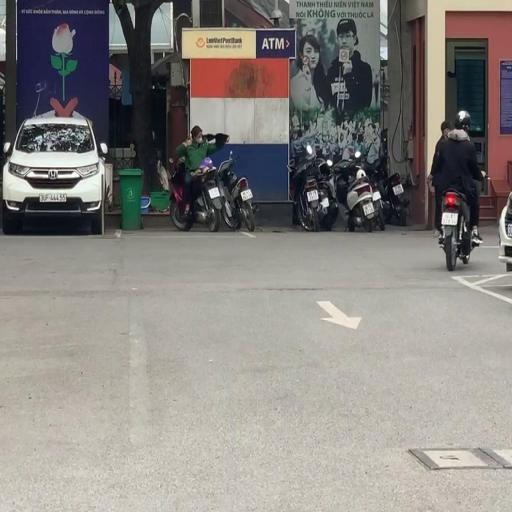bike: (428, 108, 488, 273)
numberplate: (442, 211, 459, 226), (239, 186, 254, 200), (306, 189, 320, 203), (210, 187, 223, 201), (363, 200, 376, 214), (393, 183, 404, 196)
with helmet: (454, 109, 471, 128)
